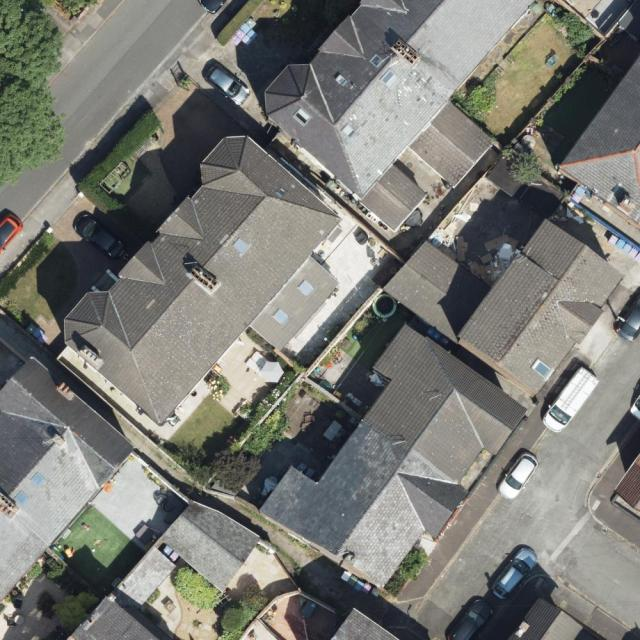roof: (63, 135, 344, 429), (257, 325, 535, 590), (264, 0, 546, 237), (382, 213, 625, 398), (0, 356, 128, 608), (115, 501, 262, 611), (555, 49, 640, 235), (64, 596, 164, 640), (511, 596, 582, 640), (331, 608, 403, 640), (610, 451, 639, 517)
skylight: (288, 106, 316, 133), (270, 306, 295, 332), (532, 357, 556, 380), (232, 235, 259, 255), (297, 274, 318, 298), (27, 471, 51, 488), (269, 185, 290, 204), (366, 51, 384, 70), (14, 489, 31, 509), (335, 71, 353, 87), (340, 122, 357, 138), (379, 70, 393, 85)
